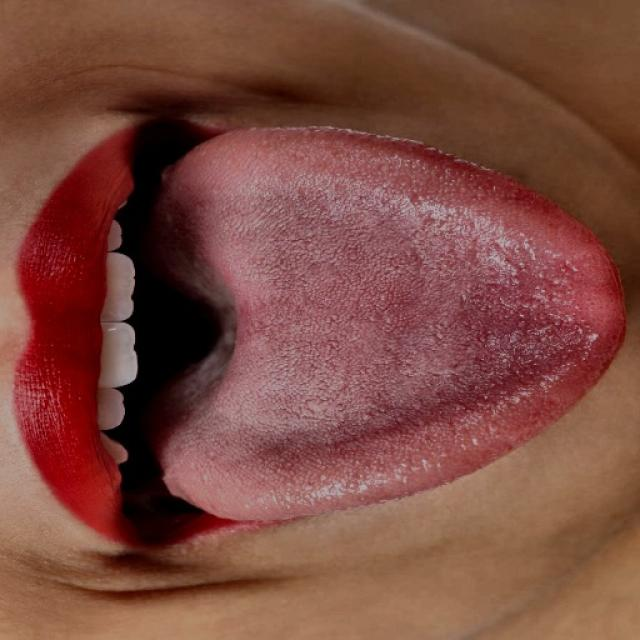processing_area: (162, 128, 626, 522)
